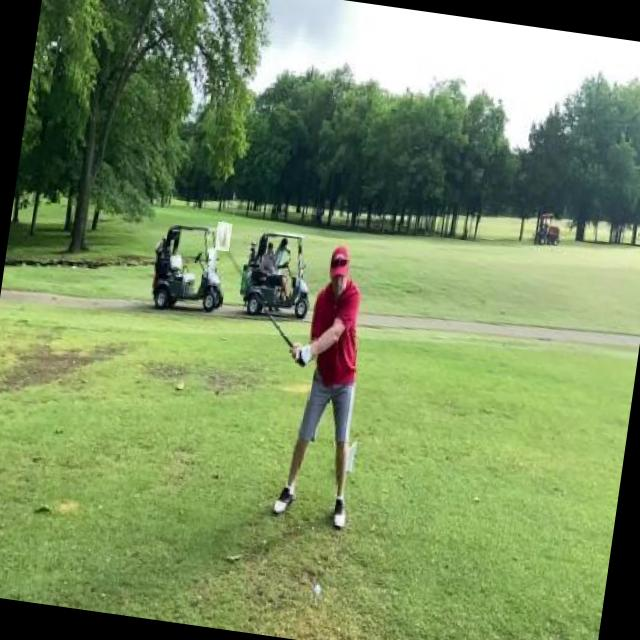club head: (215, 222, 232, 252)
